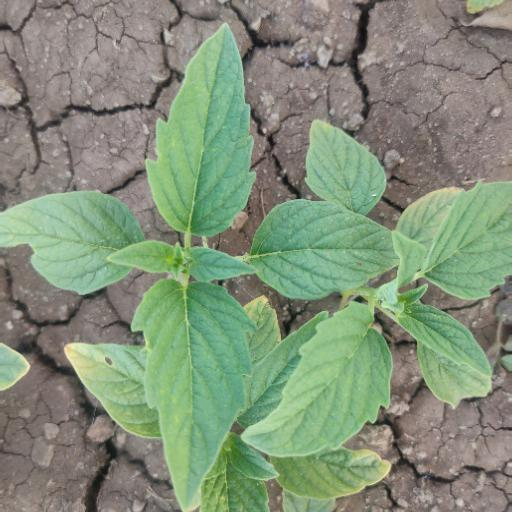crop: (1, 21, 502, 485)
